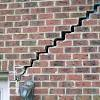stairstep_crack: (16, 1, 98, 78)
